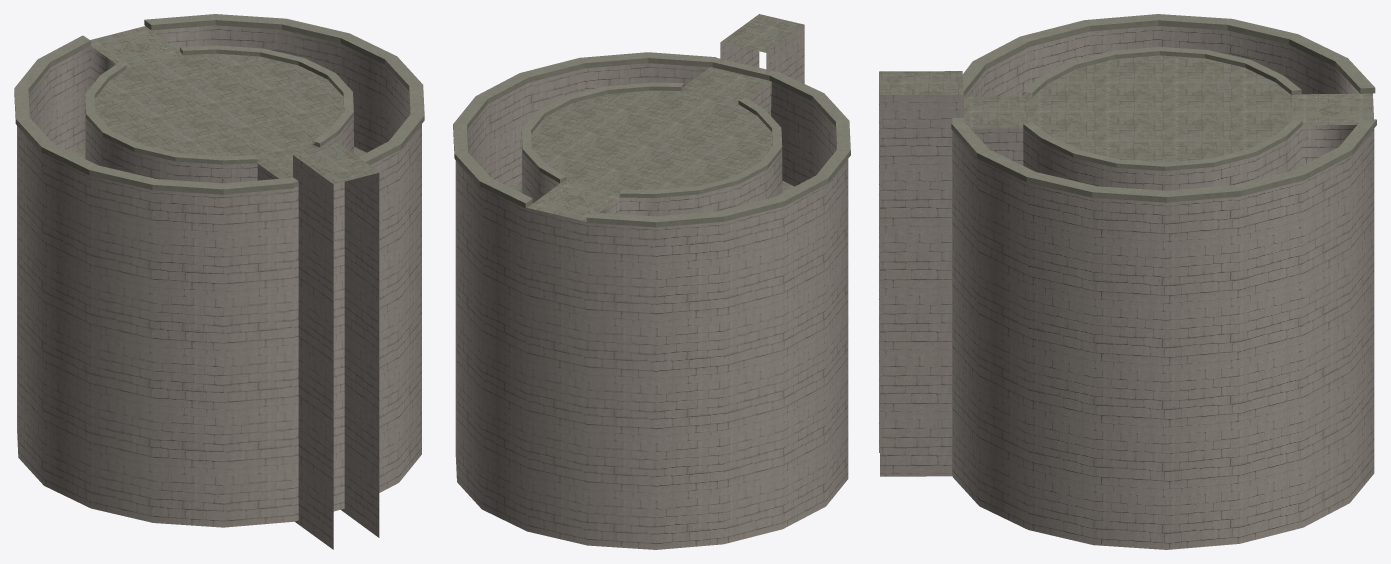
Rendered from AD_Ground_D_01.fbx.
3 views of the same model, side by side, from view 1: azimuth 30°, elevation 25°; view 2: azimuth 150°, elevation 25°; view 3: azimuth 270°, elevation 25° (orthographic). The views are drawn at different scales.
Parts seen in each view (by area): view 1: AD_Ground_D_01; view 2: AD_Ground_D_01; view 3: AD_Ground_D_01.
Part boxes in pixels (left/top/right/bottom): AD_Ground_D_01: left=14, top=14, right=424, bottom=549; AD_Ground_D_01: left=453, top=14, right=850, bottom=549; AD_Ground_D_01: left=879, top=14, right=1376, bottom=549.
Size of the model in its own units: 6346 by 6168 by 7291.
4 materials, 4 textured.
